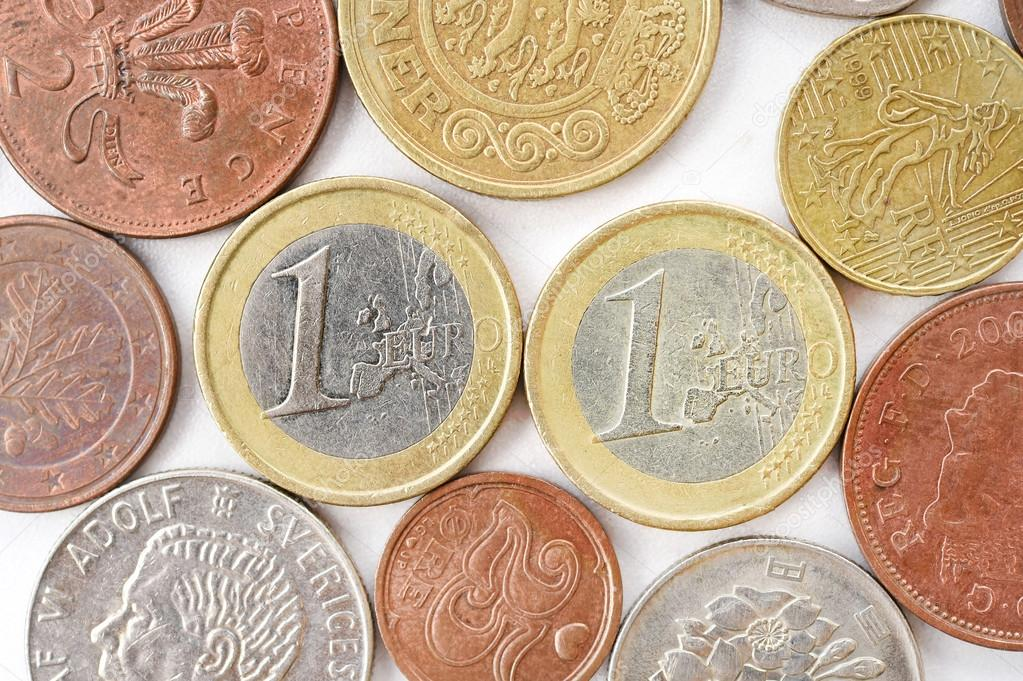euro_1: (525, 181, 867, 541), (192, 174, 528, 514)
